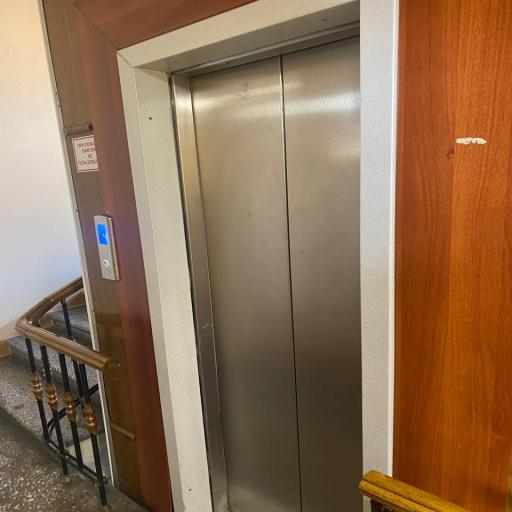closet: (89, 0, 362, 512)
laptop: (0, 306, 142, 510)
